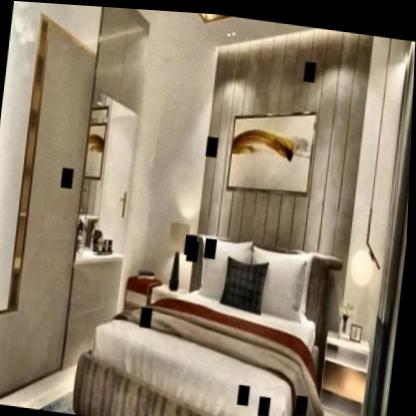Bed: (98, 222, 346, 416)
Frame: (226, 99, 321, 195)
Nightstand: (320, 321, 384, 416)
